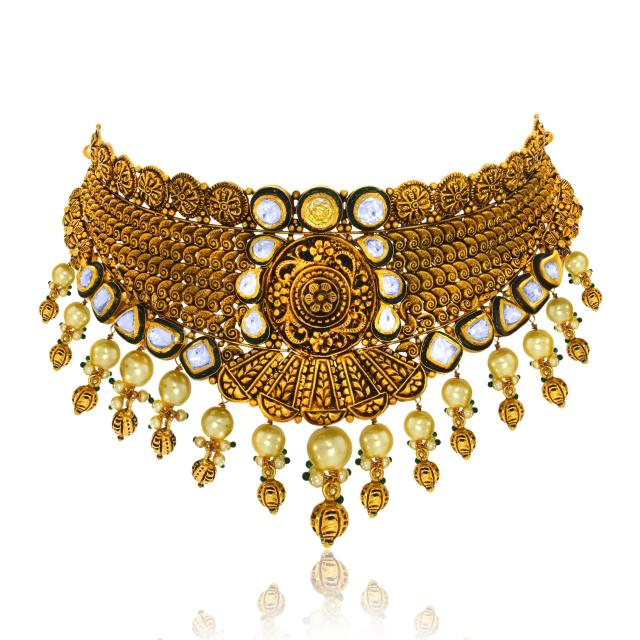missing gem: (304, 198, 335, 227)
